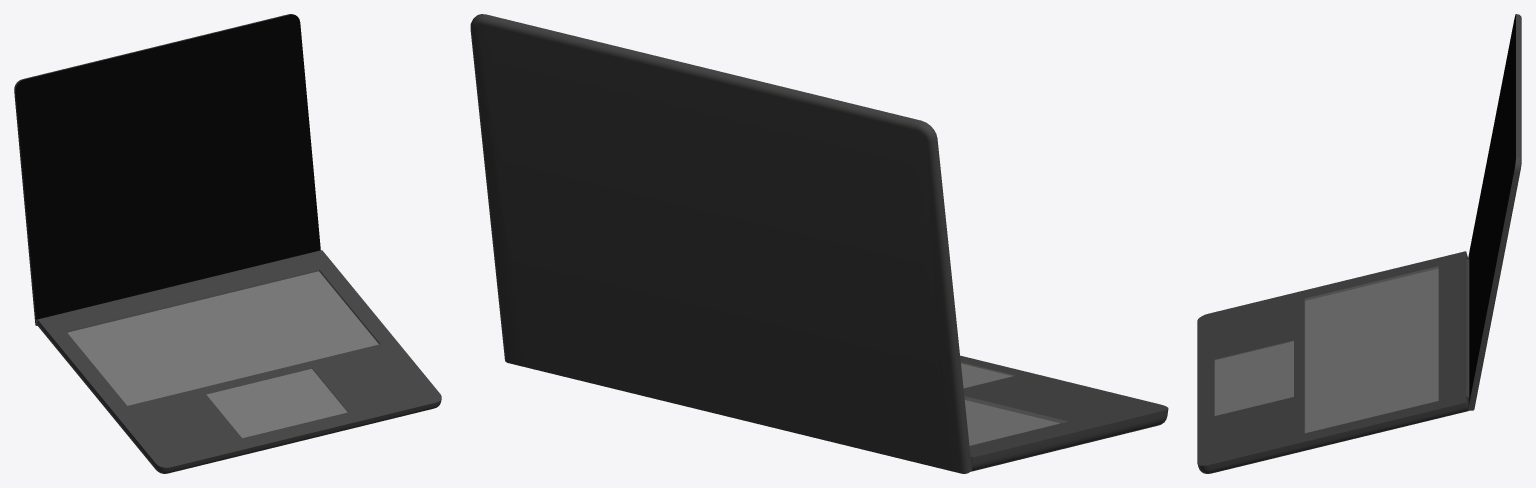
The model's file is laptop.gltf.
3 renders of one model, left to right at view 1: azimuth 30°, elevation 25°; view 2: azimuth 150°, elevation 25°; view 3: azimuth 270°, elevation 25°, orthographic. The views are drawn at different scales.
Visible parts, largest first — view 1: Cube.925; view 2: Cube.925; view 3: Cube.925.
Part boxes in pixels (x1,y1,x2,y2): Cube.925: (14, 14, 441, 473); Cube.925: (470, 14, 1168, 473); Cube.925: (1197, 14, 1521, 473).
Bounding box in the file's own units: 1.84 × 1.79 × 1.67.
Materials: 1 (1 with a texture image).
